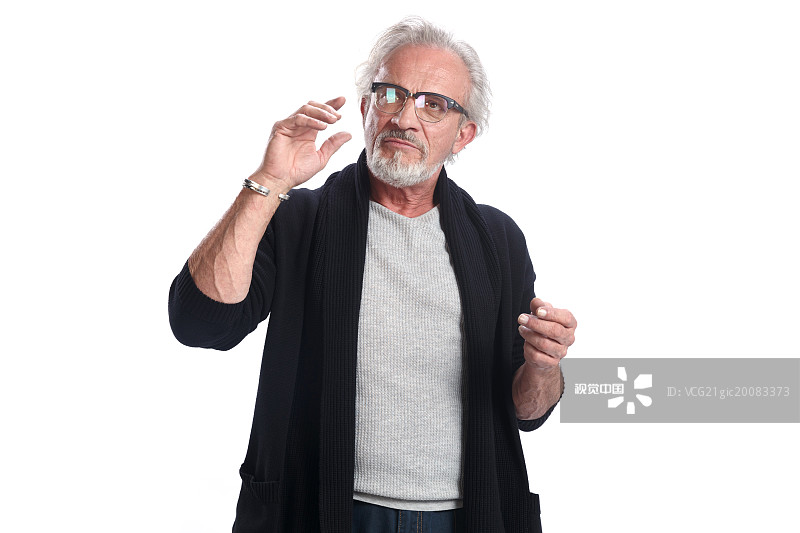no-phone: (252, 81, 358, 204), (509, 285, 583, 378)
